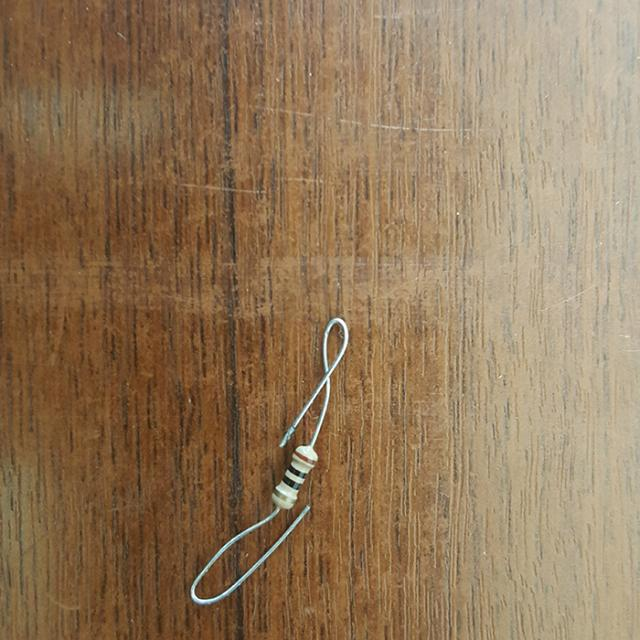black: (287, 466, 305, 478), (283, 477, 299, 488)
brown: (293, 451, 315, 464)
gold: (273, 488, 293, 503)
resistor: (266, 435, 325, 516)
